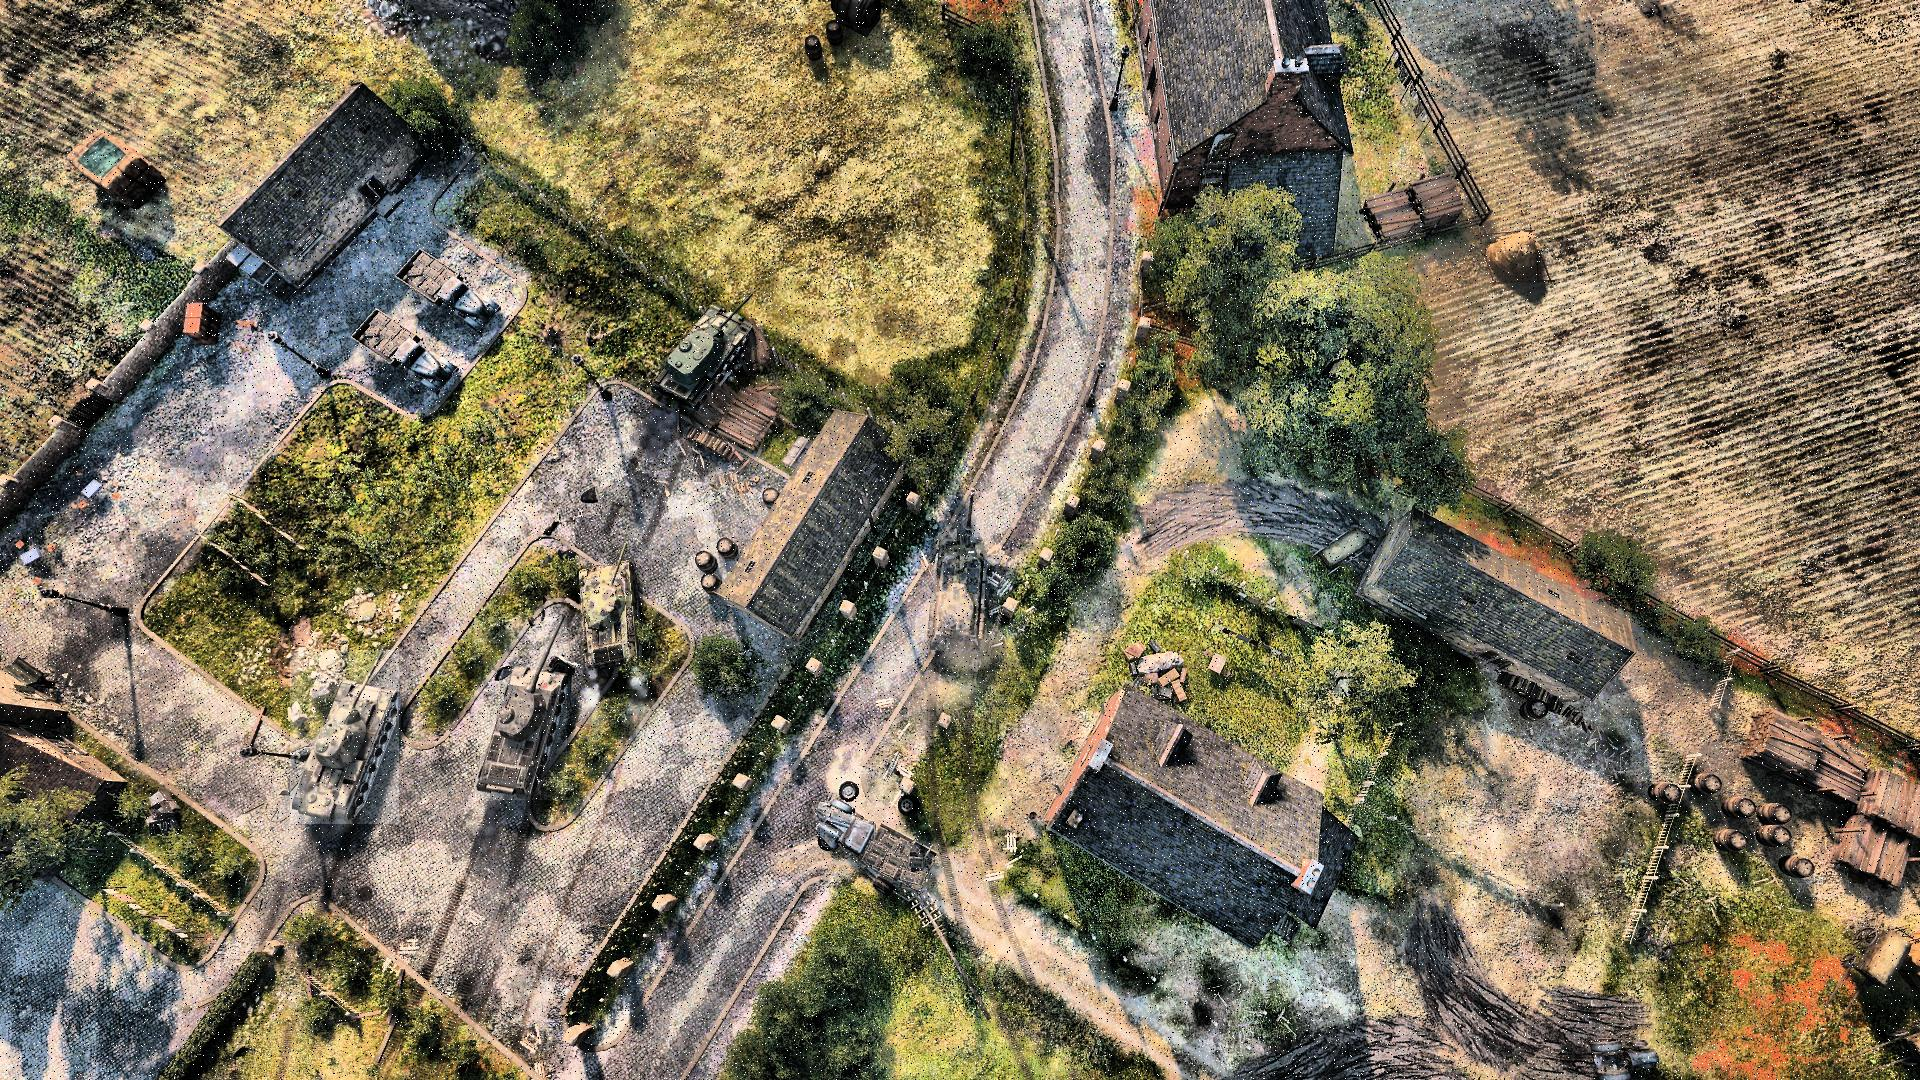military-vehicle: (290, 650, 400, 824), (475, 617, 567, 800), (651, 293, 760, 407), (576, 543, 642, 675)
